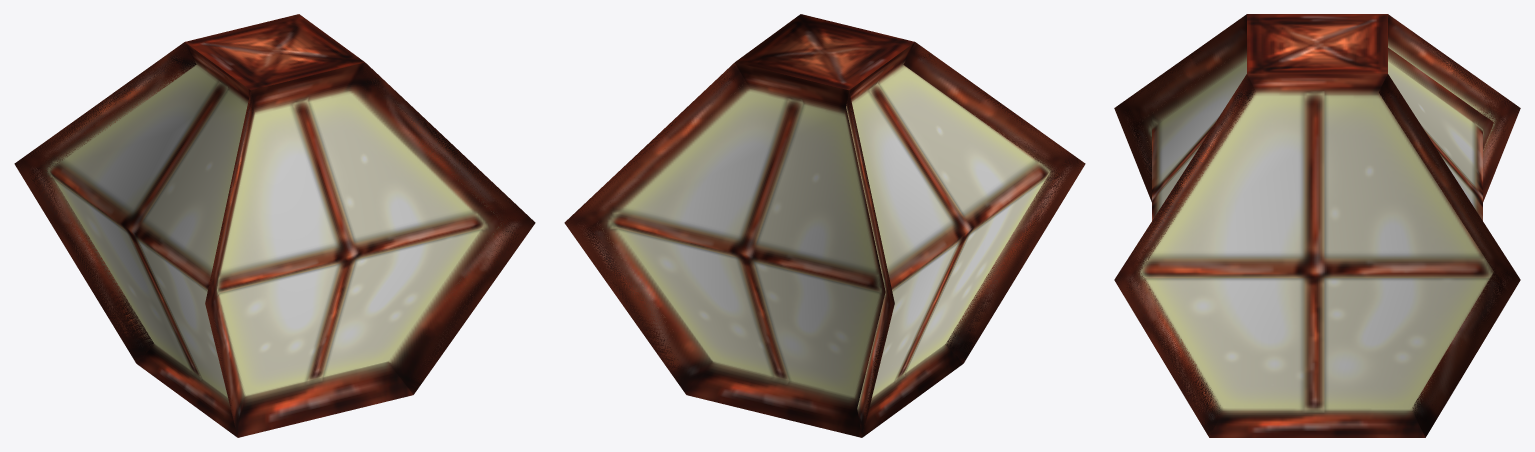
The model's file is Wooden_Fence_Lamp.fbx.
3 renders of one model, left to right at view 1: azimuth 30°, elevation 25°; view 2: azimuth 150°, elevation 25°; view 3: azimuth 270°, elevation 25°, orthographic. The views are drawn at different scales.
Parts seen in each view (by area): view 1: pCube1; view 2: pCube1; view 3: pCube1.
Part boxes in pixels (box(x1,y1,x2,y2)): pCube1: box(14, 14, 535, 437); pCube1: box(564, 14, 1085, 437); pCube1: box(1114, 14, 1520, 437).
Size of the model in its own units: 0.4481 by 0.4239 by 0.4481.
